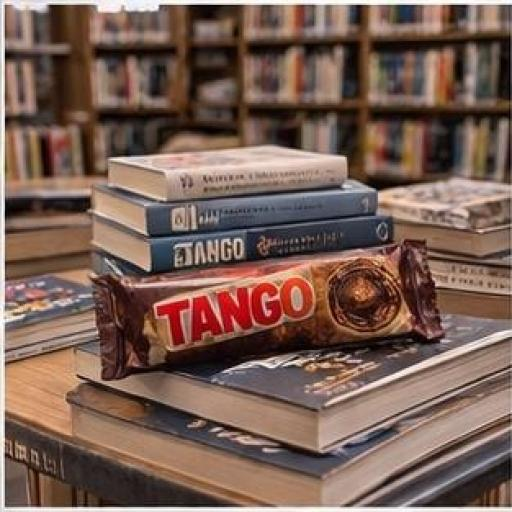tango: (56, 217, 449, 431)
